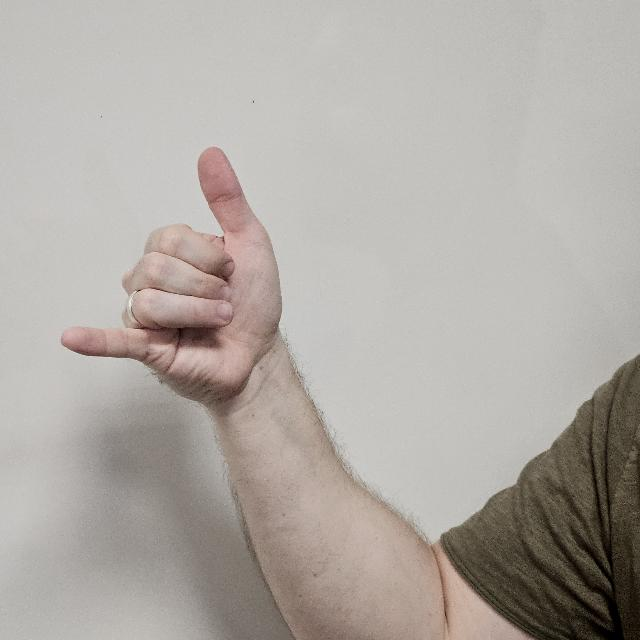Direita: (62, 142, 294, 422)
